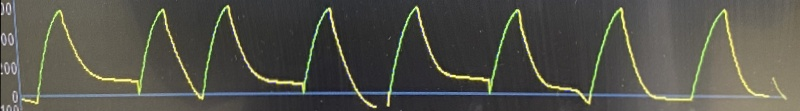normal_volume: (19, 0, 780, 108)
